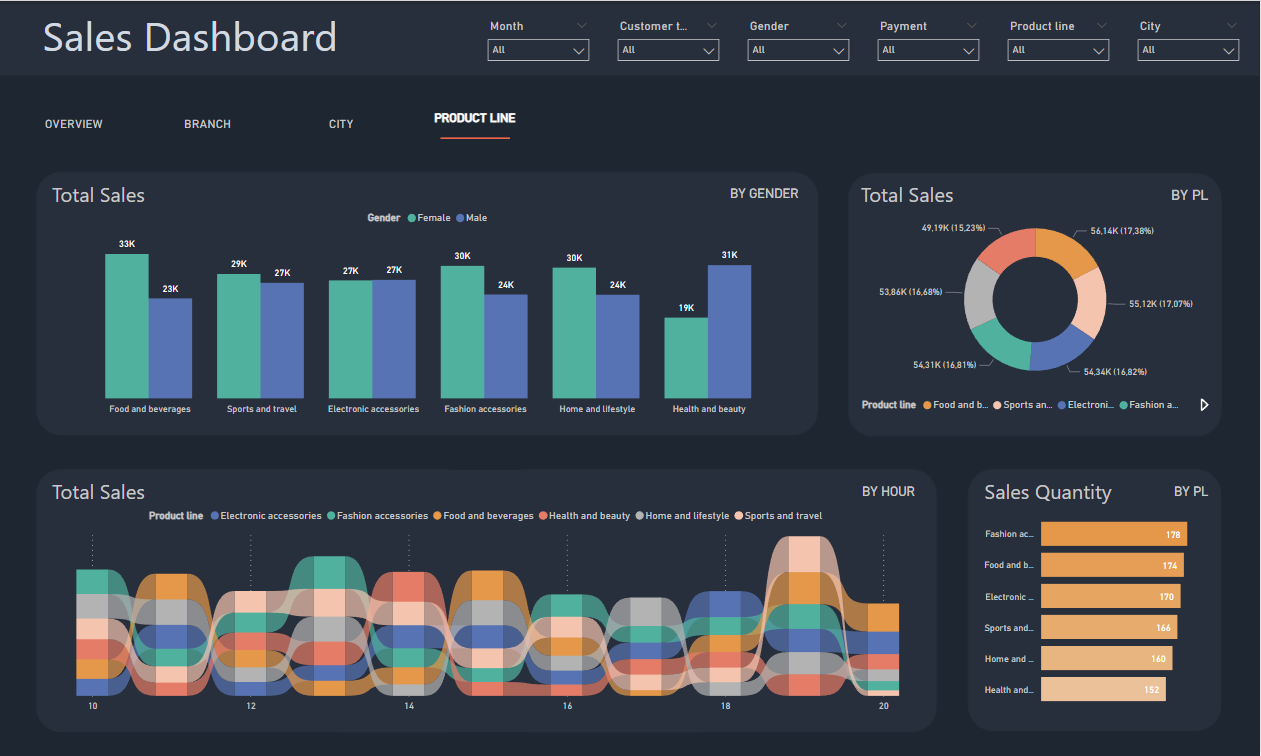

The dashboard page shown, as its layout file describes it:
{"tool":"powerbi","page":{"name":"PRODUCT LINE","canvas":[1500,900],"ordinal":3},"visuals":[{"type":"textbox","title":"Sales Dashboard","box":[40,4.5,374.9,117.5],"z":0},{"type":"pageNavigator","box":[25.3,122,627.8,50.6],"z":1000},{"type":"textbox","box":[58,209.8,139.8,53.6],"z":2000},{"type":"textbox","box":[1167.8,563.8,177,53.6],"z":3000},{"type":"shape","box":[58,456.7,52.1,44.6],"z":4000},{"type":"shape","box":[904.5,456.7,52.1,44.6],"z":5000},{"type":"textbox","box":[1021,210,168.1,53.6],"z":6000},{"type":"textbox","box":[58,563.8,224.6,53.6],"z":7000},{"type":"slicer","fields":{"Values":["Worksheet.City"]},"box":[1344.8,17.9,141.3,68.4],"z":8000},{"type":"slicer","fields":{"Values":["Worksheet.Product line"]},"box":[1190.1,17.9,141.3,68.4],"z":9000},{"type":"slicer","fields":{"Values":["Worksheet.Payment"]},"box":[1035.4,17.9,141.3,68.4],"z":10000},{"type":"slicer","fields":{"Values":["Worksheet.Gender"]},"box":[880.7,17.9,141.3,68.4],"z":11000},{"type":"slicer","fields":{"Values":["Worksheet.Customer type"]},"box":[726,17.9,141.3,68.4],"z":12000},{"type":"slicer","fields":{"Values":["Worksheet.Date.Variation.Date Hierarchy.Month"]},"box":[571.2,17.9,141.3,68.4],"z":13000},{"type":"shape","box":[525,147,83.3,34.2],"z":14000},{"type":"clusteredColumnChart","title":"BY GENDER   ","fields":{"Category":["Worksheet.Product line"],"Y":["Worksheet.MeasureTotal"],"Series":["Worksheet.Gender"]},"box":[68.4,221.7,888.1,279.7],"z":15000},{"type":"shape","box":[404.6,559.3,431.4,312.4],"z":16000},{"type":"ribbonChart","title":"BY HOUR","fields":{"Category":["Worksheet.Hour"],"Series":["Worksheet.Product line"],"Y":["Worksheet.MeasureTotal"]},"box":[68.4,575.7,1026.4,279.7],"z":17000},{"type":"clusteredBarChart","title":"BY PL","fields":{"Category":["Worksheet.Product line"],"Y":["CountNonNull(Worksheet.Invoice ID)"]},"box":[1154.4,575.7,290.1,279.7],"z":18000},{"type":"donutChart","title":"BY PL","fields":{"Category":["Worksheet.Product line"],"Y":["Worksheet.MeasureTotal"]},"box":[1022,221.7,422.5,279.7],"z":19000}]}

Visuals, with their boxes in screenshot pixels (x1, y1, x2, y2), scaled from the page's 1500x900 canvas onto the 1261x756 screenshot:
"Sales Dashboard" textbox: 34 4 349 102
pageNavigator: 21 102 549 145
textbox: 49 176 166 221
textbox: 982 474 1131 519
shape: 49 384 93 421
shape: 760 384 804 421
textbox: 858 176 1000 221
textbox: 49 474 238 519
slicer - Worksheet.City: 1131 15 1249 72
slicer - Worksheet.Product line: 1000 15 1119 72
slicer - Worksheet.Payment: 870 15 989 72
slicer - Worksheet.Gender: 740 15 859 72
slicer - Worksheet.Customer type: 610 15 729 72
slicer - Worksheet.Date.Variation.Date Hierarchy.Month: 480 15 599 72
shape: 441 123 511 152
"BY GENDER   " clusteredColumnChart: 58 186 804 421
shape: 340 470 703 732
"BY HOUR" ribbonChart: 58 484 920 719
"BY PL" clusteredBarChart: 970 484 1214 719
"BY PL" donutChart: 859 186 1214 421
